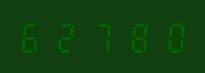eight: (120, 20, 153, 53)
seven: (86, 20, 119, 53)
six: (18, 20, 51, 53)
two: (52, 20, 85, 53)
zero: (154, 20, 187, 53)
